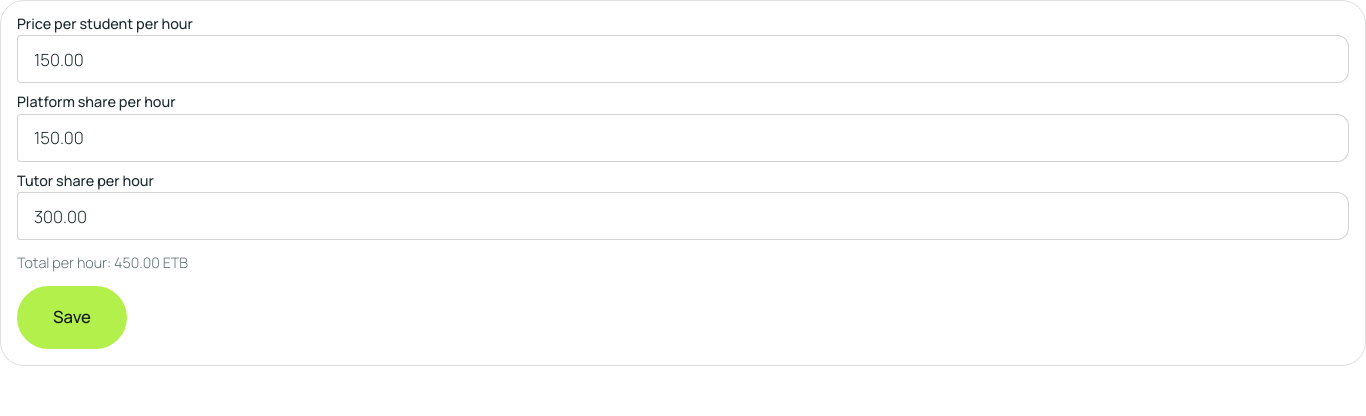
Test: PricingConfigForm › re-enables Save once the values sum correctly
Replace the text in the field labelled "Tutor share per hour" with "250.00" at (683, 216), box [17, 192, 1349, 240]
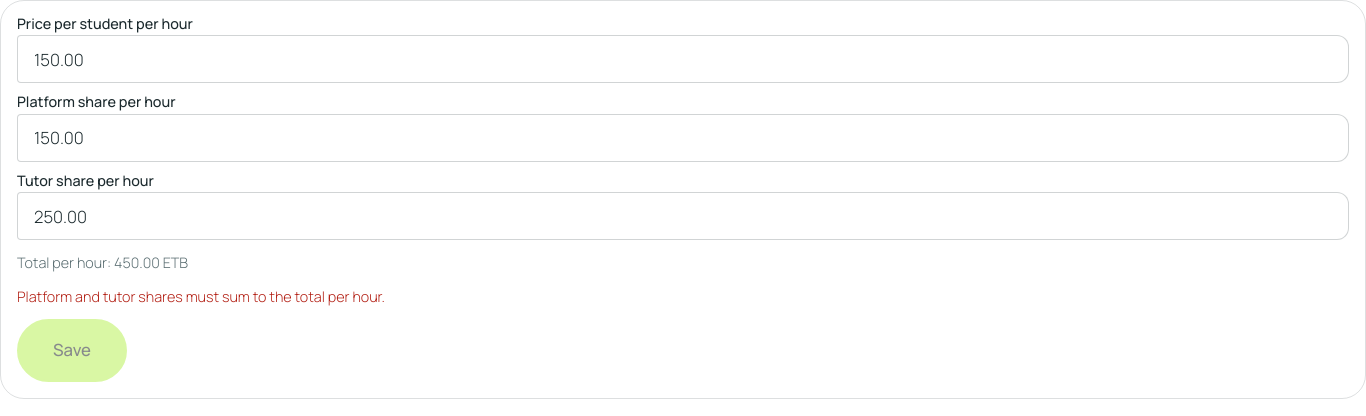
Replace the text in the field labelled "Platform share per hour" with "200.00" at (683, 138), box [17, 114, 1349, 162]
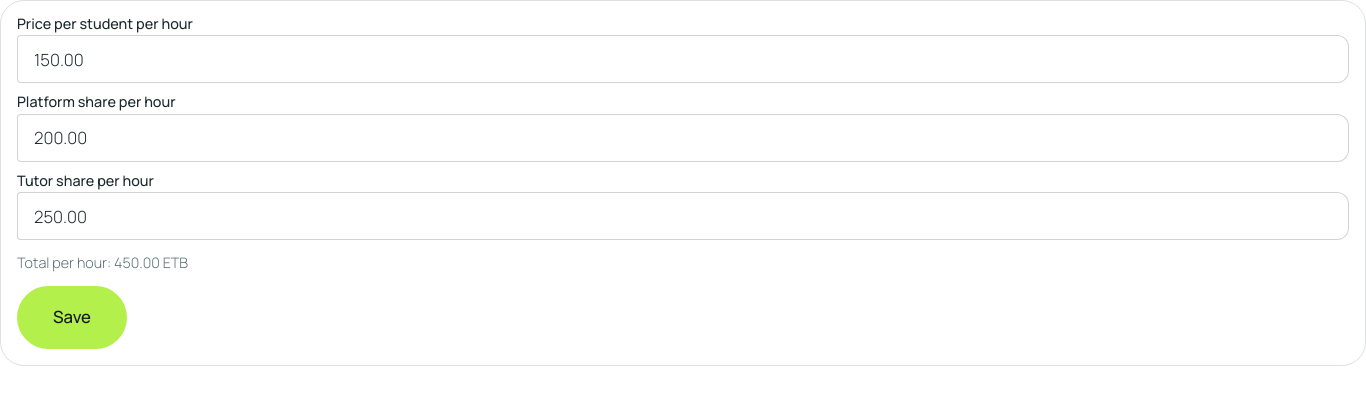
Expected: the button "Save" is enabled, [17, 286, 127, 349]
